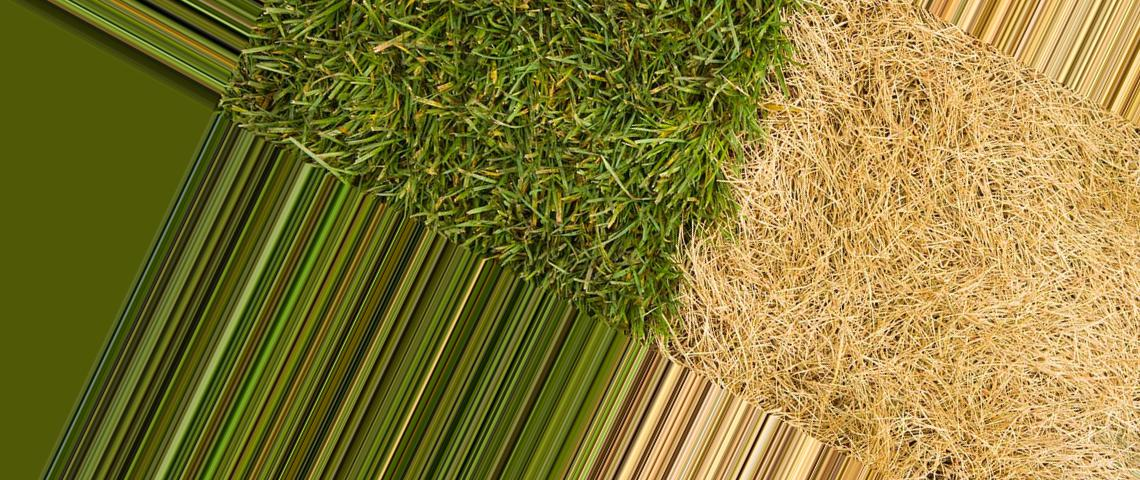patch: (830, 37, 1006, 404), (1028, 133, 1126, 424), (735, 189, 793, 367)
